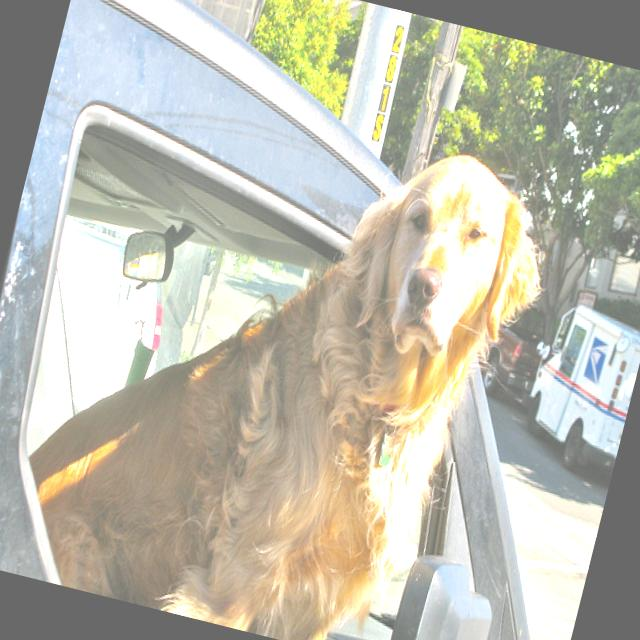Vehicle: (0, 0, 640, 640), (514, 298, 640, 485), (478, 298, 554, 406)
